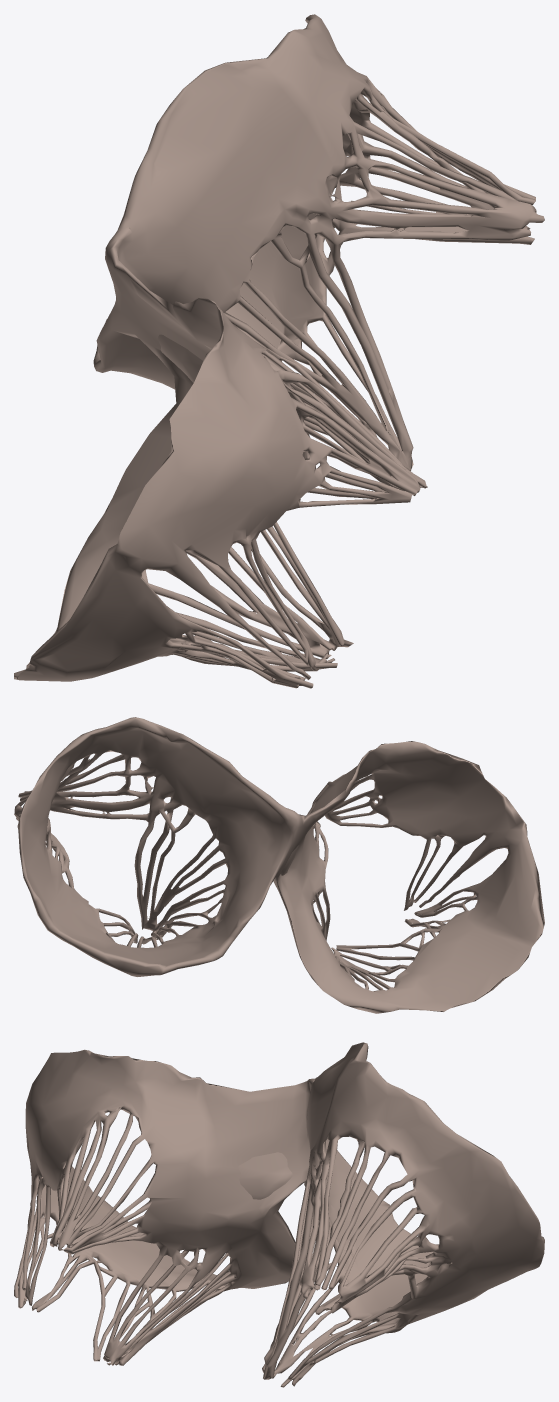
Rendered from avvalves.glb.
3 renders of one model, top to bottom at view 1: azimuth 30°, elevation 25°; view 2: azimuth 150°, elevation 25°; view 3: azimuth 270°, elevation 25°, orthographic. The views are drawn at different scales.
Parts seen in each view (by area): view 1: Avvalves; view 2: Avvalves; view 3: Avvalves.
Part boxes in pixels (<box>): Avvalves: <box>14,14,544,688</box>; Avvalves: <box>14,717,544,1013</box>; Avvalves: <box>14,1042,544,1387</box>.
Size of the model in its own units: 1.68 by 1.14 by 1.55.
